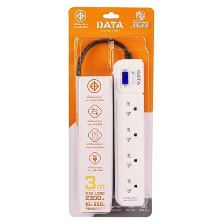book: (67, 5, 154, 220)
three_eye_plug: (109, 55, 146, 208)
